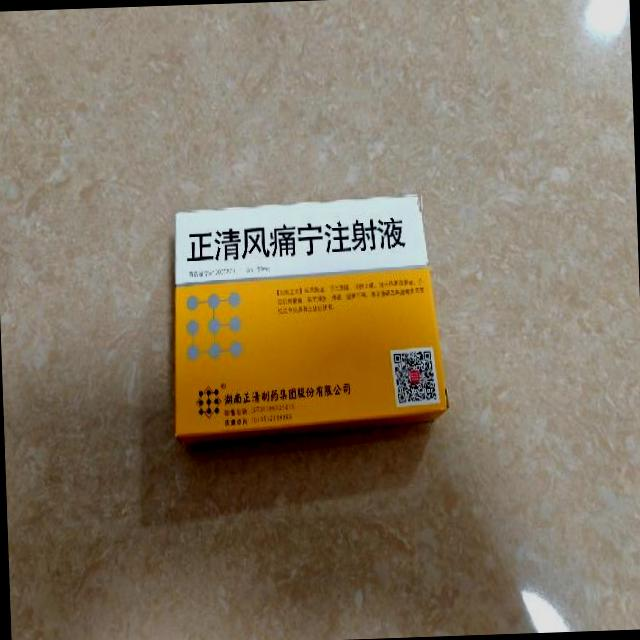box: (165, 190, 448, 448)
